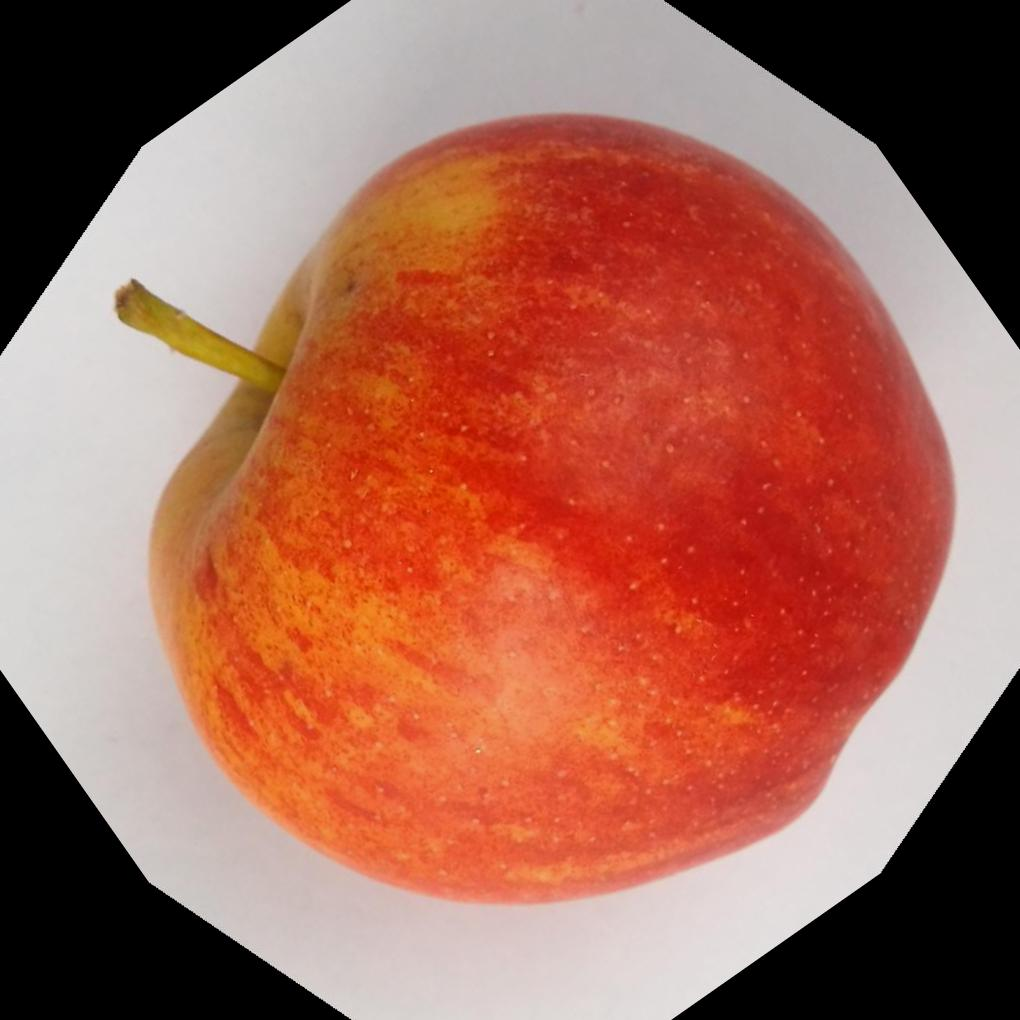FreshGuava: (115, 106, 958, 906)
